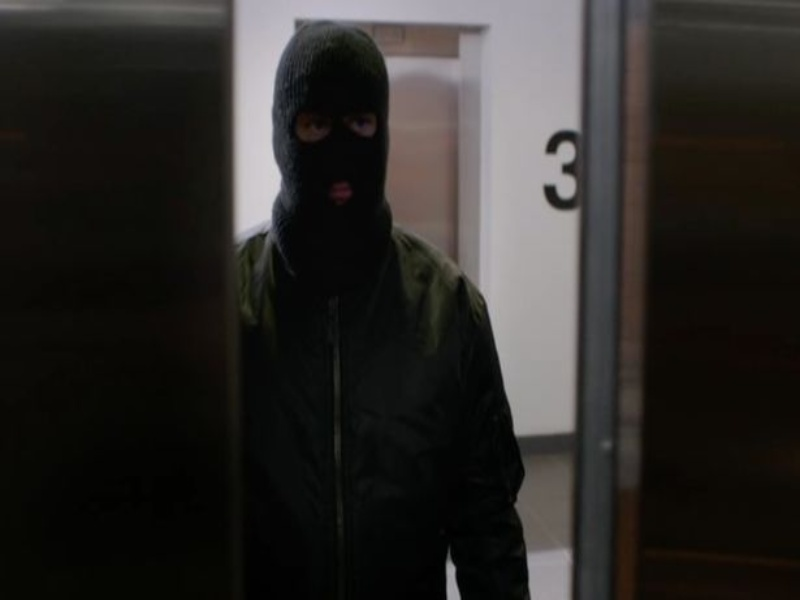balaclava: (272, 24, 394, 289)
person: (233, 20, 531, 600)
